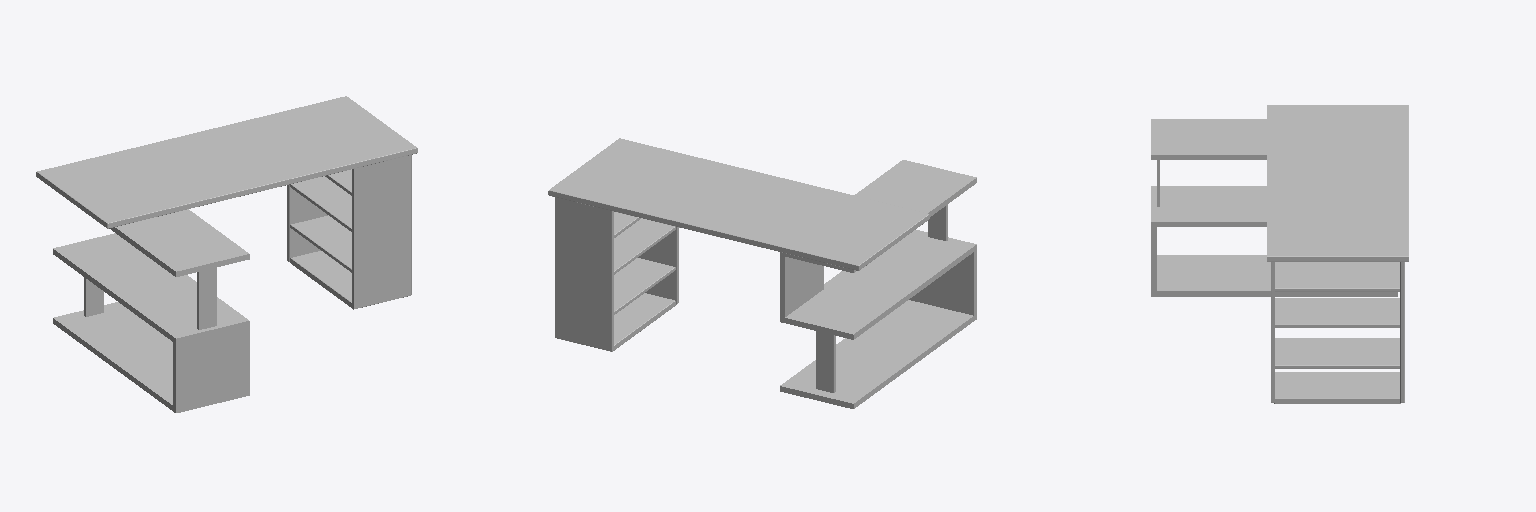
Rendered from desk5.obj.
3 renders of one model, left to right at view 1: azimuth 30°, elevation 25°; view 2: azimuth 150°, elevation 25°; view 3: azimuth 270°, elevation 25°, orthographic.
Parts seen in each view (by area): view 1: BasicDesk_Modern; view 2: BasicDesk_Modern; view 3: BasicDesk_Modern.
Part boxes in pixels (bbox=[...]): BasicDesk_Modern: bbox=[36, 96, 417, 412]; BasicDesk_Modern: bbox=[548, 138, 976, 408]; BasicDesk_Modern: bbox=[1151, 105, 1408, 403].
Size of the model in its own units: 2.93 by 1.35 by 2.1.